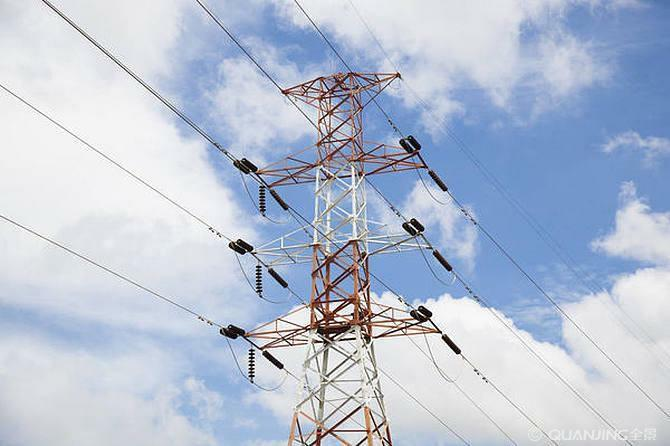power_tower: (207, 62, 446, 446)
